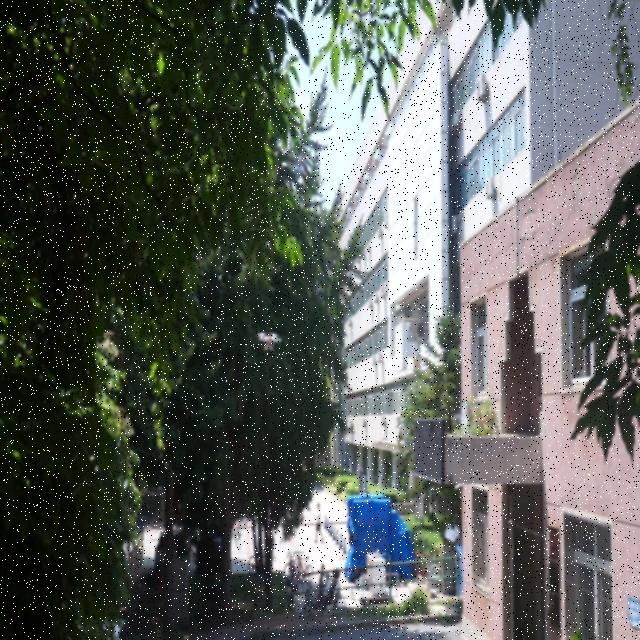UAV: (257, 332, 282, 351)
